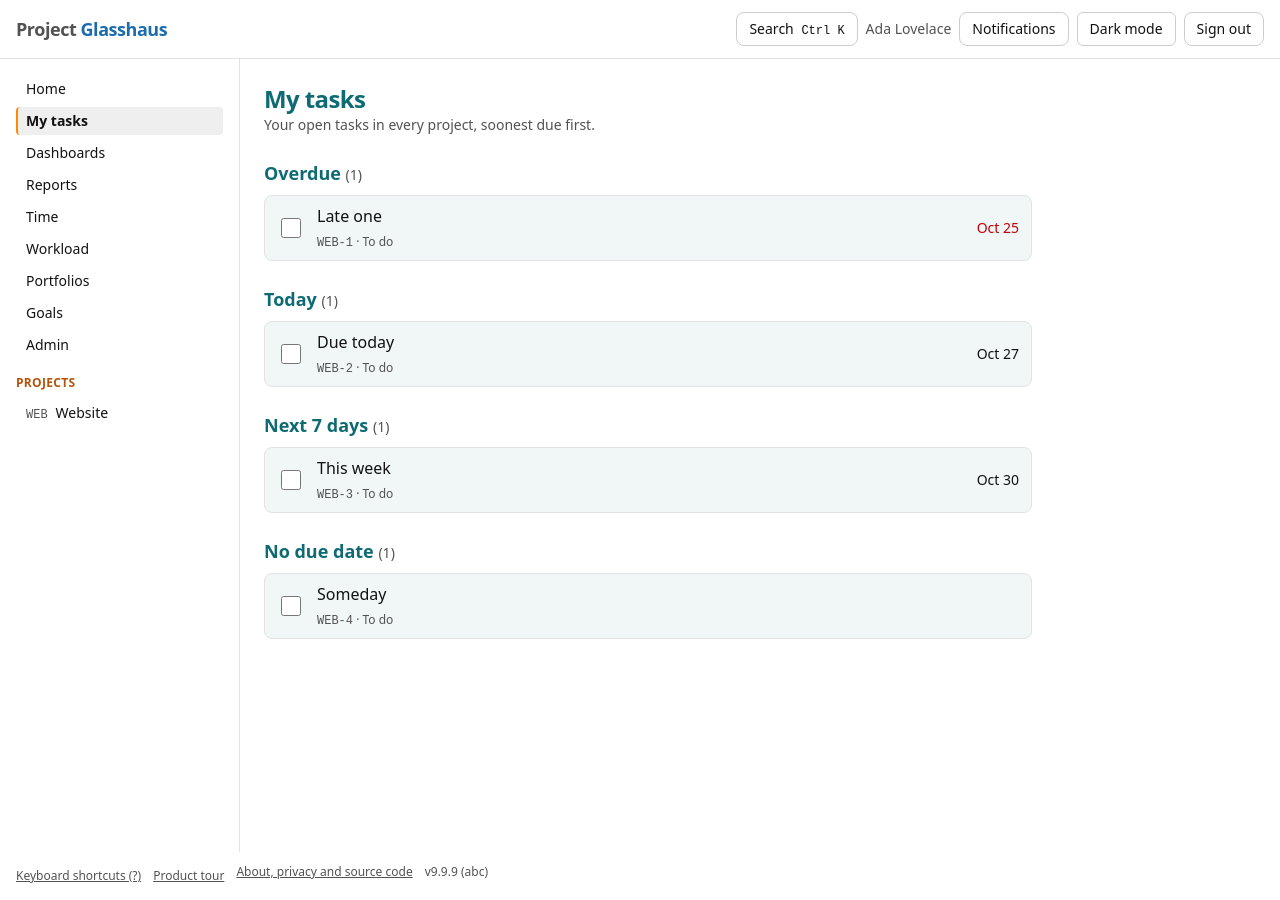
Test: my tasks › groups open tasks by due date, asks only for mine, and ticks one done
Expected: the link "Late one" is shown, x1=317 y1=205 x2=382 y2=227
Expected: the link "Due today" is shown, x1=317 y1=331 x2=394 y2=353
Click the checkbox named "Mark WEB-2 done" at (291, 354), box x1=281 y1=344 x2=301 y2=364
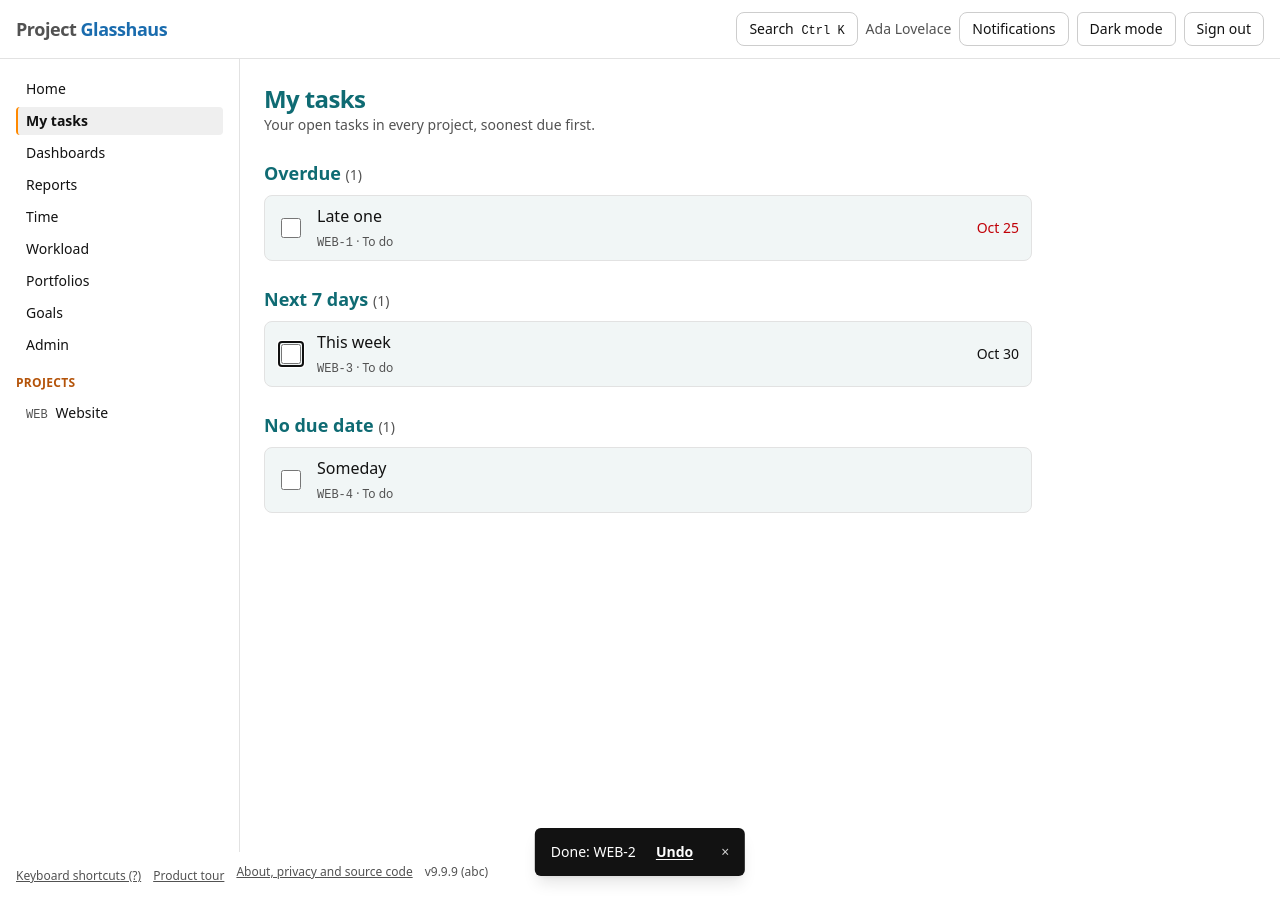
Now the text "Done: WEB-2" is shown, box x1=551 y1=842 x2=636 y2=862
